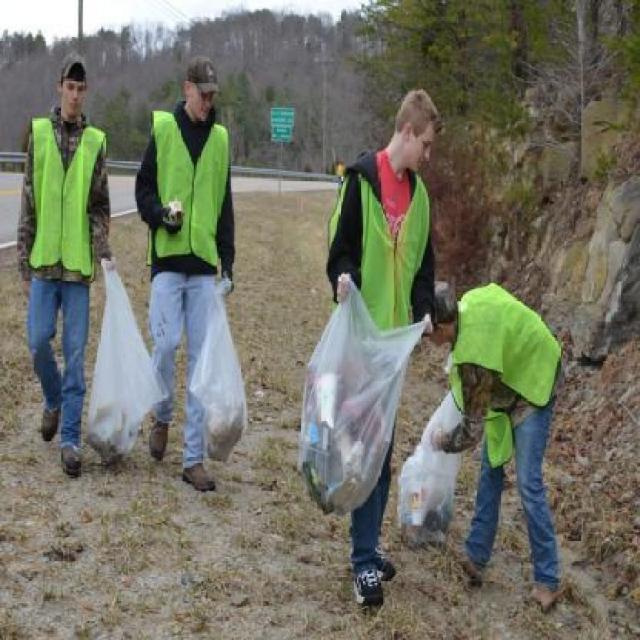plastic bag: (297, 272, 429, 517), (82, 260, 169, 457), (394, 350, 466, 544), (186, 272, 246, 465)
